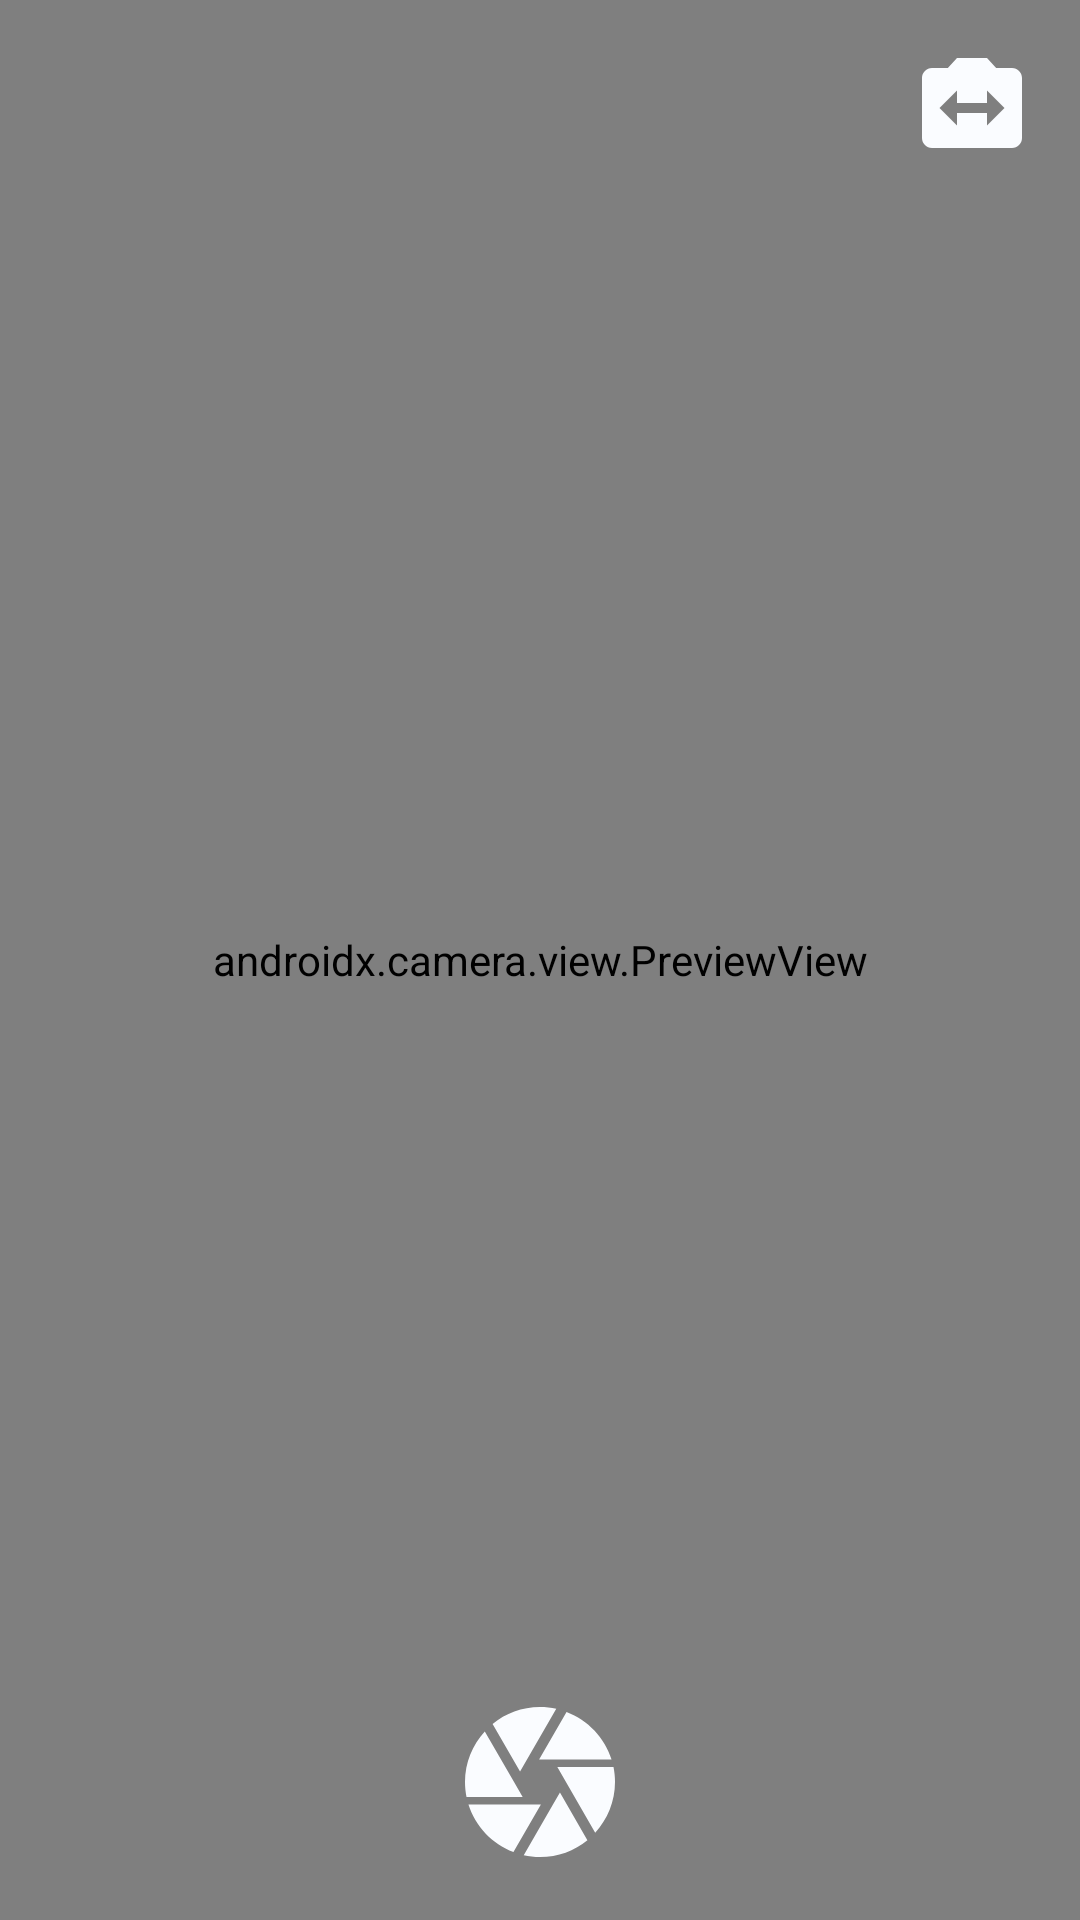

Icons on this 1080x1920 Android screen, each with its box as region(x1, y1, x2, y2):
switch camera: region(922, 58, 1022, 148)
